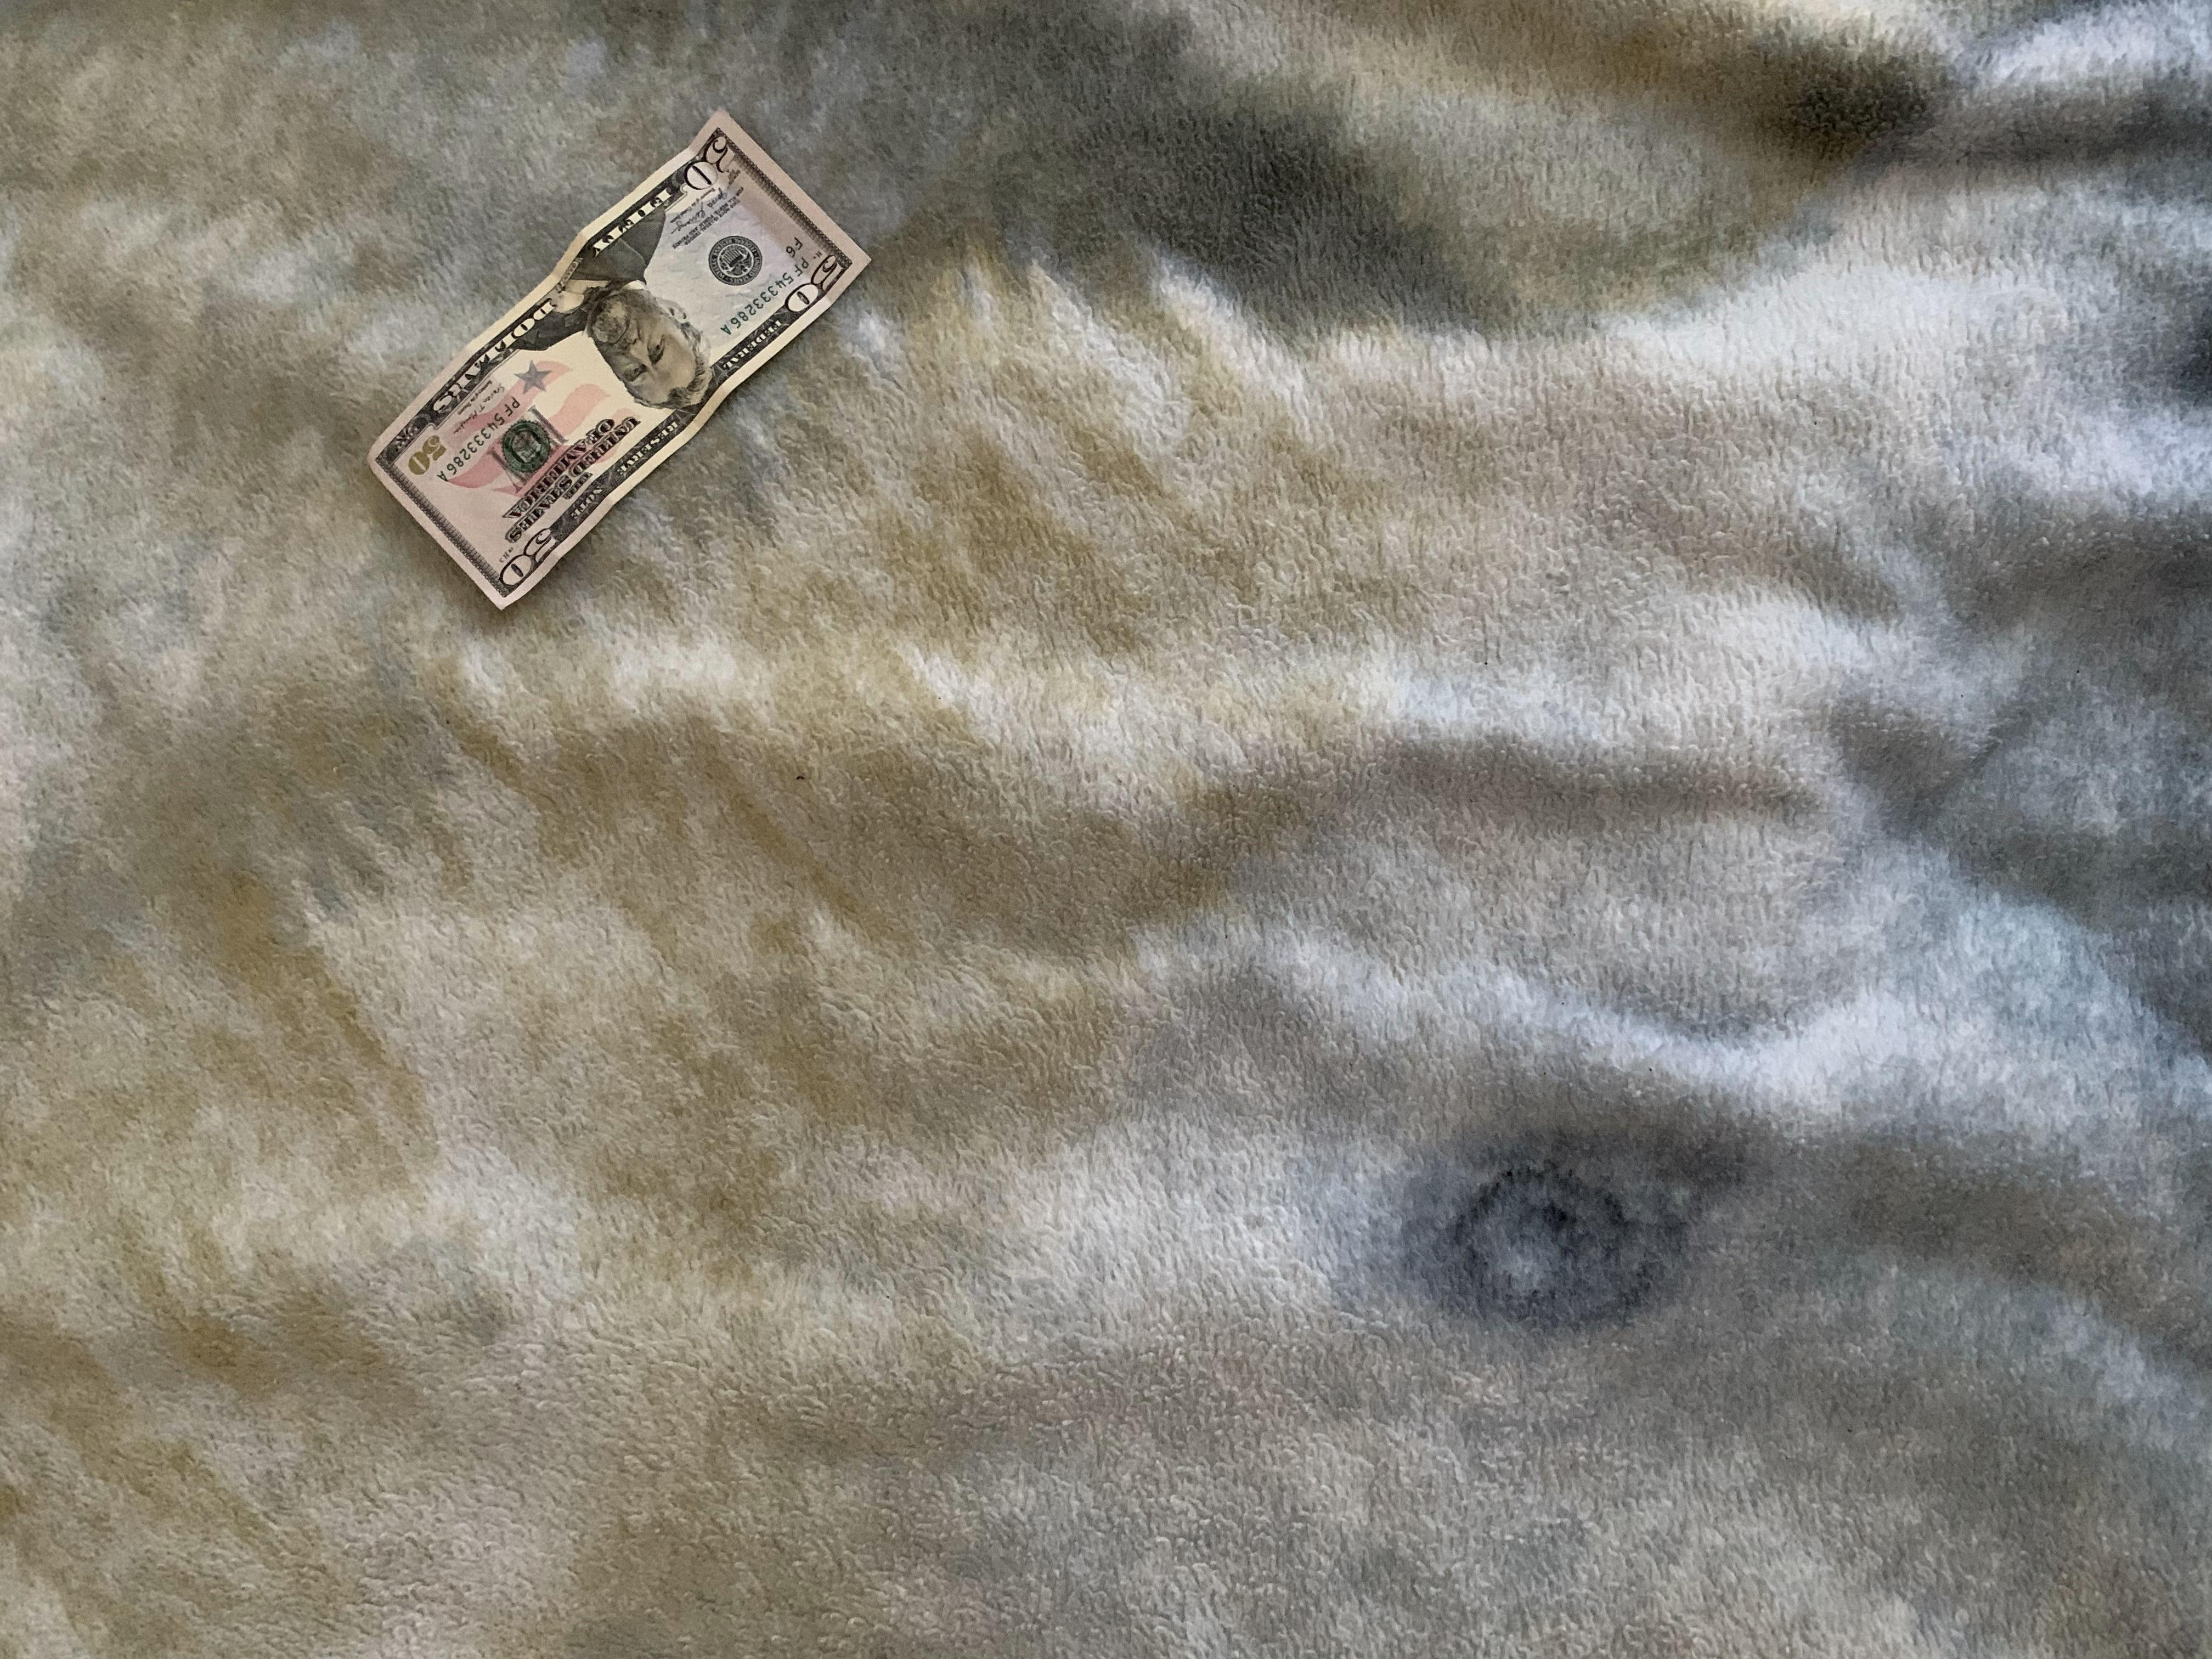FiftyBill: (362, 99, 871, 612)
